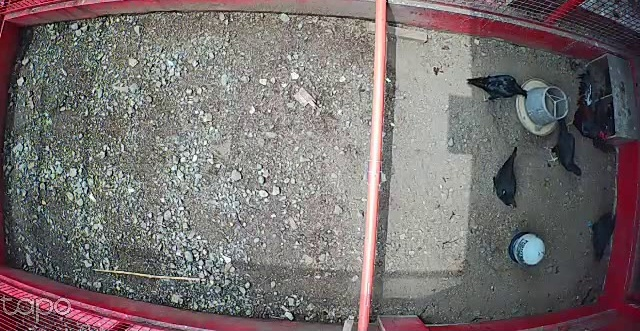Chicken: (541, 118, 587, 178), (491, 145, 523, 210), (466, 71, 529, 103), (585, 208, 619, 264)
Feeder: (515, 79, 571, 134)
Rooster: (566, 71, 610, 146)
